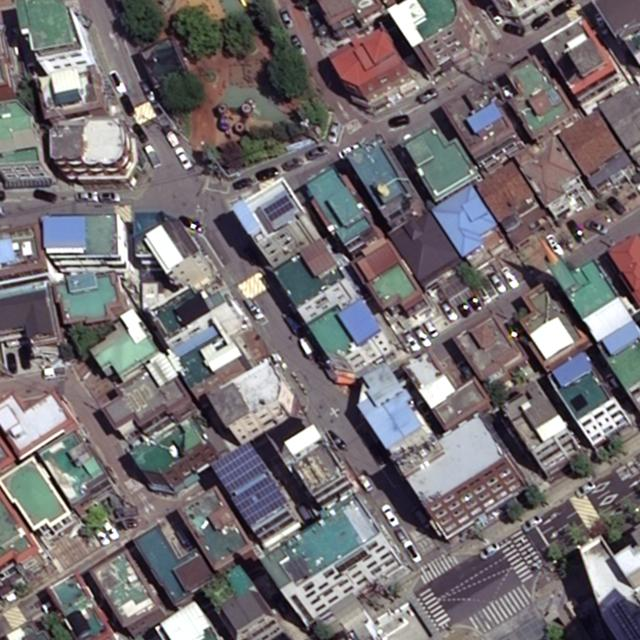panel: (210, 440, 270, 495), (231, 476, 288, 530), (263, 194, 295, 222)
